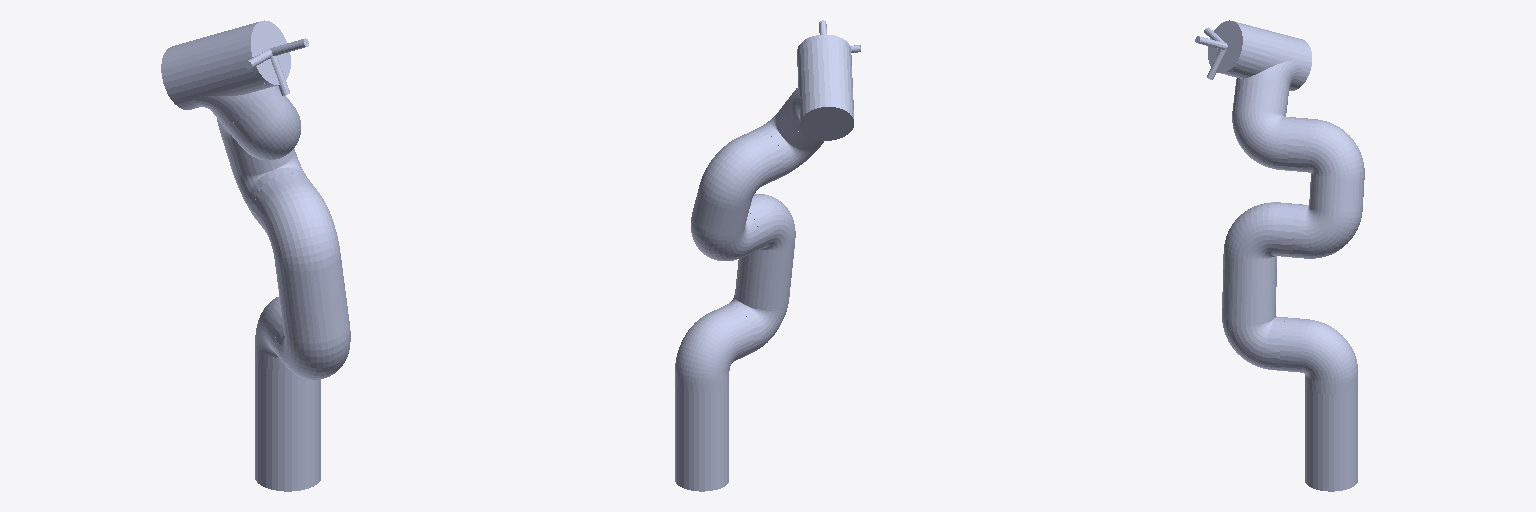
The robot description file, URDF, robot "ele_robot_s_1":
<?xml version="1.0" encoding="utf-8"?>
<!-- This URDF was automatically created by SolidWorks to URDF Exporter! Originally created by [author] ([email redacted]) 
     Commit Version: 1.6.0-4-g7f85cfe  Build Version: 1.6.7995.38578
     For more information, please see http://wiki.ros.org/sw_urdf_exporter -->
<robot
  name="ele_robot_s_1">
  <link
    name="base_link">
    <inertial>
      <origin
        xyz="6.2674E-35 0.055992 5.0218E-19"
        rpy="0 0 0" />
      <mass
        value="0.46546" />
      <inertia
        ixx="0.00073586"
        ixy="-5.3584E-36"
        ixz="7.8206E-37"
        iyy="0.00034256"
        iyz="-8.5222E-21"
        izz="0.00073586" />
    </inertial>
    <visual>
      <origin
        xyz="0 0 0"
        rpy="0 0 0" />
      <geometry>
        <mesh
          filename="package://ele_robot_s_1/meshes/base_link.STL" />
      </geometry>
      <material
        name="">
        <color
          rgba="0.79216 0.81961 0.93333 1" />
      </material>
    </visual>
    <collision>
      <origin
        xyz="0 0 0"
        rpy="0 0 0" />
      <geometry>
        <mesh
          filename="package://ele_robot_s_1/meshes/base_link.STL" />
      </geometry>
    </collision>
  </link>
  <link
    name="J1_s_1">
    <inertial>
      <origin
        xyz="0.018465 0.041056 8.6241E-18"
        rpy="0 0 0" />
      <mass
        value="0.4349" />
      <inertia
        ixx="0.00036393"
        ixy="-9.9694E-05"
        ixz="-1.2197E-19"
        iyy="0.00044073"
        iyz="-5.1858E-20"
        izz="0.00050697" />
    </inertial>
    <visual>
      <origin
        xyz="0 0 0"
        rpy="0 0 0" />
      <geometry>
        <mesh
          filename="package://ele_robot_s_1/meshes/J1_s_1.STL" />
      </geometry>
      <material
        name="">
        <color
          rgba="0.79216 0.81961 0.93333 1" />
      </material>
    </visual>
    <collision>
      <origin
        xyz="0 0 0"
        rpy="0 0 0" />
      <geometry>
        <mesh
          filename="package://ele_robot_s_1/meshes/J1_s_1.STL" />
      </geometry>
    </collision>
  </link>
  <joint
    name="Joint1_s_1"
    type="revolute">
    <origin
      xyz="0 0 0.148"
      rpy="1.5708 0 -1.7771" />
    <parent
      link="base_link" />
    <child
      link="J1_s_1" />
    <axis
      xyz="0 1 0" />
    <limit
      lower="-2.36"
      upper="2.36"
      effort="3.5"
      velocity="0.12" />
  </joint>
  <link
    name="J2_s_1">
    <inertial>
      <origin
        xyz="0.048837 4.4409E-16 -0.086786"
        rpy="0 0 0" />
      <mass
        value="1.0762" />
      <inertia
        ixx="0.004914"
        ixy="3.2526E-19"
        ixz="-0.00021502"
        iyy="0.0051716"
        iyz="4.7485E-18"
        izz="0.00099434" />
    </inertial>
    <visual>
      <origin
        xyz="0 0 0"
        rpy="0 0 0" />
      <geometry>
        <mesh
          filename="package://ele_robot_s_1/meshes/J2_s_1.STL" />
      </geometry>
      <material
        name="">
        <color
          rgba="0.79216 0.81961 0.93333 1" />
      </material>
    </visual>
    <collision>
      <origin
        xyz="0 0 0"
        rpy="0 0 0" />
      <geometry>
        <mesh
          filename="package://ele_robot_s_1/meshes/J2_s_1.STL" />
      </geometry>
    </collision>
  </link>
  <joint
    name="Joint2_s_1"
    type="revolute">
    <origin
      xyz="0.056279 0.052 0"
      rpy="1.6931 0 0" />
    <parent
      link="J1_s_1" />
    <child
      link="J2_s_1" />
    <axis
      xyz="1 0 0" />
    <limit
      lower="-2.36"
      upper="2.36"
      effort="3.5"
      velocity="0.12" />
  </joint>
  <link
    name="J3_s_1">
    <inertial>
      <origin
        xyz="0.0417889831462106 -6.66133814775094E-16 -0.0638004486132631"
        rpy="0 0 0" />
      <mass
        value="0.882699862234413" />
      <inertia
        ixx="0.00259371576654282"
        ixy="-1.51788304147971E-18"
        ixz="-0.000147639559498508"
        iyy="0.00281804201490631"
        iyz="-2.09149375336032E-17"
        izz="0.000828534304062944" />
    </inertial>
    <visual>
      <origin
        xyz="0 0 0"
        rpy="0 0 0" />
      <geometry>
        <mesh
          filename="package://ele_robot_s_1/meshes/J3_s_1.STL" />
      </geometry>
      <material
        name="">
        <color
          rgba="0.792156862745098 0.819607843137255 0.933333333333333 1" />
      </material>
    </visual>
    <collision>
      <origin
        xyz="0 0 0"
        rpy="0 0 0" />
      <geometry>
        <mesh
          filename="package://ele_robot_s_1/meshes/J3_s_1.STL" />
      </geometry>
    </collision>
  </link>
  <joint
    name="Joint3_s_1"
    type="revolute">
    <origin
      xyz="0 0 -0.165"
      rpy="-0.15297 0 -3.1416" />
    <parent
      link="J2_s_1" />
    <child
      link="J3_s_1" />
    <axis
      xyz="1 0 0" />
    <limit
      lower="-2.36"
      upper="2.36"
      effort="3.5"
      velocity="0.12" />
  </joint>
  <link
    name="J4_s_1">
    <inertial>
      <origin
        xyz="0.0184649927504988 0.049777180845152 8.32667268468867E-17"
        rpy="0 0 0" />
      <mass
        value="0.43489867060306" />
      <inertia
        ixx="0.00036392606673556"
        ixy="-9.96944913507366E-05"
        ixz="-1.94817577868489E-19"
        iyy="0.00044072790719454"
        iyz="-1.96511643762998E-19"
        izz="0.000506965833902306" />
    </inertial>
    <visual>
      <origin
        xyz="0 0 0"
        rpy="0 0 0" />
      <geometry>
        <mesh
          filename="package://ele_robot_s_1/meshes/J4_s_1.STL" />
      </geometry>
      <material
        name="">
        <color
          rgba="0.792156862745098 0.819607843137255 0.933333333333333 1" />
      </material>
    </visual>
    <collision>
      <origin
        xyz="0 0 0"
        rpy="0 0 0" />
      <geometry>
        <mesh
          filename="package://ele_robot_s_1/meshes/J4_s_1.STL" />
      </geometry>
    </collision>
  </link>
  <joint
    name="Joint4_s_1"
    type="revolute">
    <origin
      xyz="0 0 -0.12"
      rpy="3.1416 1.2285 -1.5708" />
    <parent
      link="J3_s_1" />
    <child
      link="J4_s_1" />
    <axis
      xyz="0 1 0" />
    <limit
      lower="-2.36"
      upper="2.36"
      effort="35"
      velocity="0.12" />
  </joint>
  <link
    name="J5_s_1">
    <inertial>
      <origin
        xyz="0.0105332811691815 1.30192763930781E-08 -0.00673097433371628"
        rpy="0 0 0" />
      <mass
        value="0.606013556275632" />
      <inertia
        ixx="0.000870525315795126"
        ixy="6.61276023698689E-11"
        ixz="2.55735819330205E-05"
        iyy="0.000960806935429812"
        iyz="-3.35072228752238E-10"
        izz="0.000525320634166281" />
    </inertial>
    <visual>
      <origin
        xyz="0 0 0"
        rpy="0 0 0" />
      <geometry>
        <mesh
          filename="package://ele_robot_s_1/meshes/J5_s_1.STL" />
      </geometry>
      <material
        name="">
        <color
          rgba="0.792156862745098 0.819607843137255 0.933333333333333 1" />
      </material>
    </visual>
    <collision>
      <origin
        xyz="0 0 0"
        rpy="0 0 0" />
      <geometry>
        <mesh
          filename="package://ele_robot_s_1/meshes/J5_s_1.STL" />
      </geometry>
    </collision>
  </link>
  <joint
    name="Joint5_s_1"
    type="revolute">
    <origin
      xyz="0.10047 0.060721 0"
      rpy="2.4411 0 0" />
    <parent
      link="J4_s_1" />
    <child
      link="J5_s_1" />
    <axis
      xyz="1 0 0" />
    <limit
      lower="-2.36"
      upper="2.36"
      effort="35"
      velocity="0.12" />
  </joint>
  <link
    name="ee_s_1">
    <inertial>
      <origin
        xyz="0.00536364702848591 -0.00357393546573581 0.0747618945518107"
        rpy="0 0 0" />
      <mass
        value="0.0343431342758072" />
      <inertia
        ixx="1.49277503612047E-05"
        ixy="1.46969209195284E-07"
        ixz="-1.8204778687697E-09"
        iyy="1.49277555736489E-05"
        iyz="-1.82919916922899E-09"
        izz="2.26736866076301E-05" />
    </inertial>
    <visual>
      <origin
        xyz="0 0 0"
        rpy="0 0 0" />
      <geometry>
        <mesh
          filename="package://ele_robot_s_1/meshes/ee_s_1.STL" />
      </geometry>
      <material
        name="">
        <color
          rgba="0.792156862745098 0.819607843137255 0.933333333333333 1" />
      </material>
    </visual>
    <collision>
      <origin
        xyz="0 0 0"
        rpy="0 0 0" />
      <geometry>
        <mesh
          filename="package://ele_robot_s_1/meshes/ee_s_1.STL" />
      </geometry>
    </collision>
  </link>
  <joint
    name="end_effector_s_1"
    type="continuous">
    <origin
      xyz="0.01 0 0"
      rpy="-3.1416 0 -1.042" />
    <parent
      link="J5_s_1" />
    <child
      link="ee_s_1" />
    <axis
      xyz="0 0 1" />
    <limit
      lower="-2.36"
      upper="2.36"
      effort="3.5"
      velocity="0.11" />
  </joint>
</robot>

--- Facts derived from the render (not from the file) ---
Views: 3 orthographic renders of the robot side by side, from view 1: azimuth 30°, elevation 25°; view 2: azimuth 150°, elevation 25°; view 3: azimuth 270°, elevation 25°.
Model ele_robot_s_1 with 7 links and 6 joints (5 revolute, 1 continuous), rooted at base_link, posed every joint at zero.
Links seen in each view (by area): view 1: J2_s_1, base_link, J5_s_1, J4_s_1, ee_s_1, J3_s_1, J1_s_1; view 2: J3_s_1, J2_s_1, J5_s_1, base_link, J1_s_1, J4_s_1; view 3: J2_s_1, J3_s_1, base_link, J1_s_1, J5_s_1, J4_s_1, ee_s_1.
Link boxes in pixels (<box>): J2_s_1: <box>254,173,350,379</box>; base_link: <box>255,360,320,491</box>; J5_s_1: <box>161,22,272,122</box>; J4_s_1: <box>218,86,300,159</box>; ee_s_1: <box>245,20,308,95</box>; J3_s_1: <box>217,85,309,222</box>; J1_s_1: <box>255,297,289,370</box>; J3_s_1: <box>691,130,782,260</box>; J2_s_1: <box>725,194,795,354</box>; J5_s_1: <box>785,38,853,140</box>; base_link: <box>675,383,728,491</box>; J1_s_1: <box>675,306,753,392</box>; J4_s_1: <box>755,101,823,180</box>; J2_s_1: <box>1222,202,1298,370</box>; J3_s_1: <box>1288,117,1364,258</box>; base_link: <box>1305,385,1357,491</box>; J1_s_1: <box>1280,317,1357,393</box>; J5_s_1: <box>1225,22,1311,96</box>; J4_s_1: <box>1232,89,1294,170</box>; ee_s_1: <box>1195,20,1245,79</box>.
Bounding box of the posed robot: 0.2362 × 0.2328 × 0.6406 m (x, y, z).
Meshes: 7 distinct files referenced, 7 mesh visuals loaded (7 binary STL).